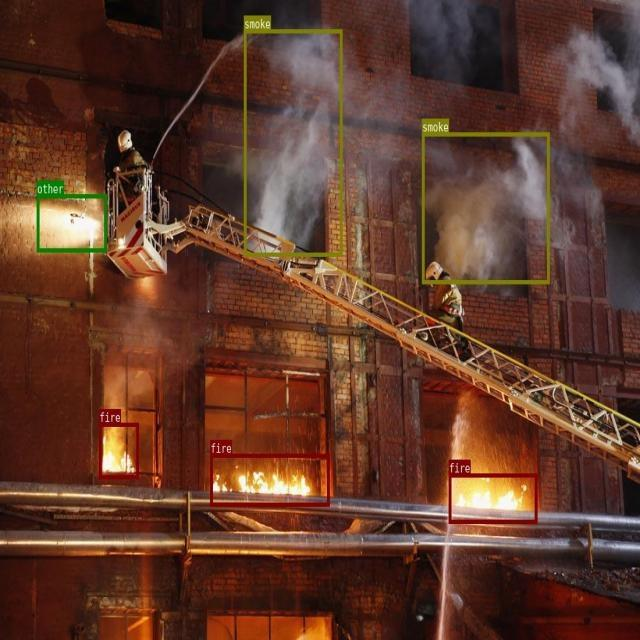fire: (209, 453, 329, 505), (448, 473, 537, 523), (99, 422, 138, 478)
smoke: (244, 29, 342, 256), (421, 133, 549, 284)
